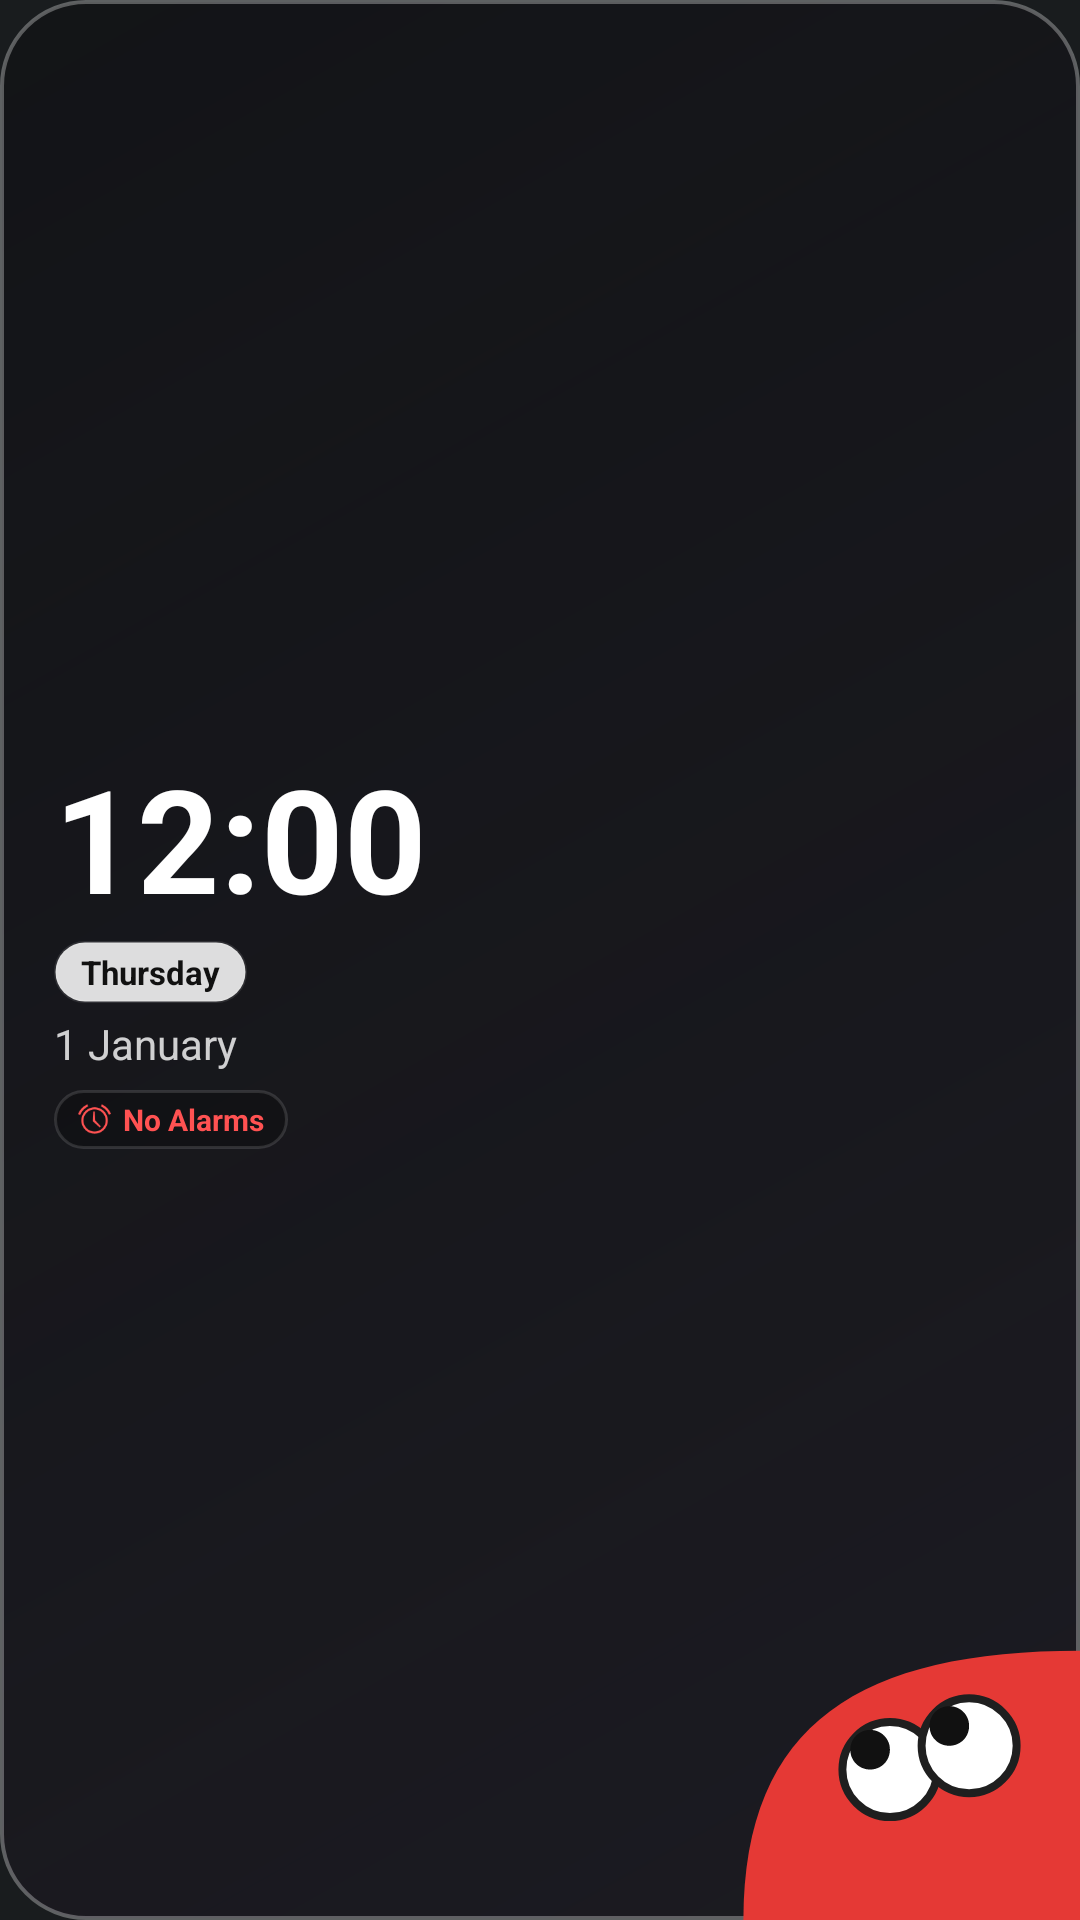

Locate icon controls on the screen. Image size 1080x1920, boxes as (x1, y1, x2, y2).
Alarm Icon: (78, 1104, 111, 1134)
